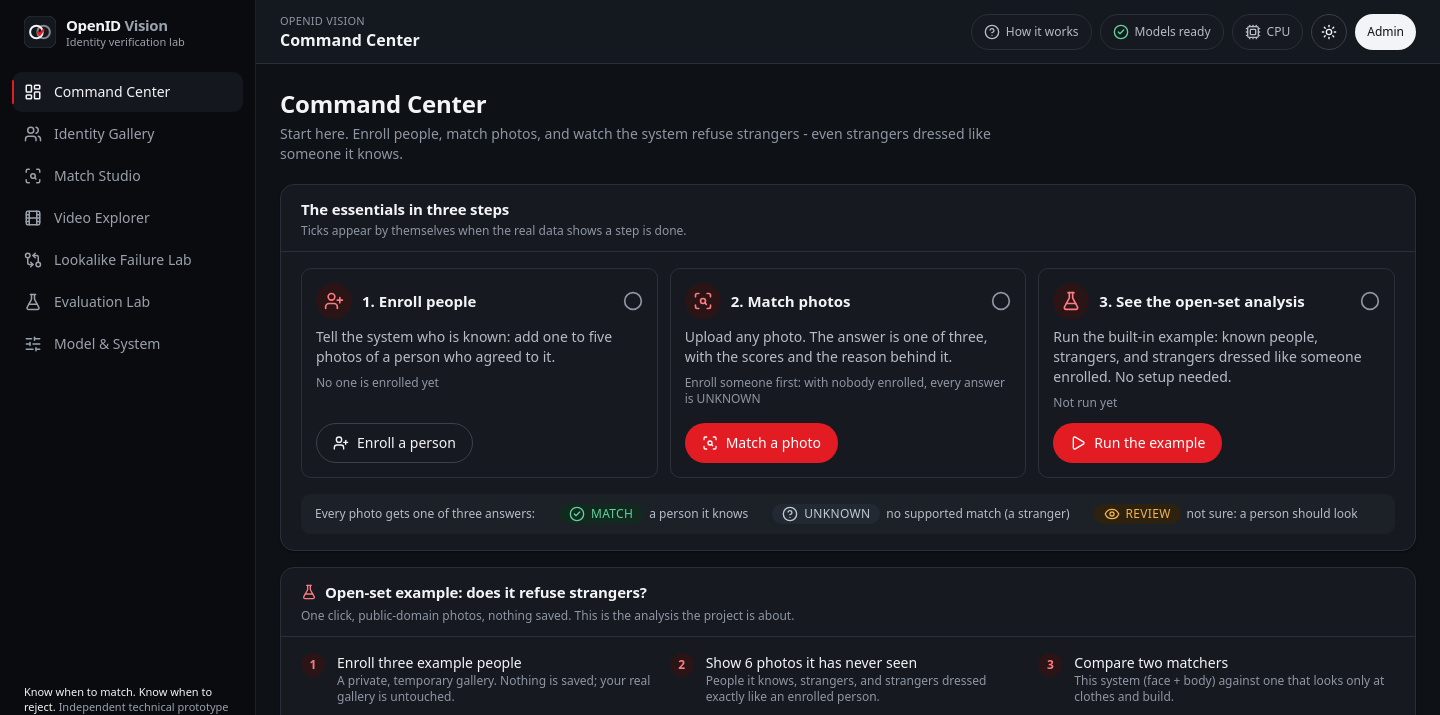
it: home page: the open-set example › says plainly when it stops half-way, and offers to try again
Click the button "Run the example" below "See the open-set analysis" at (1138, 443), box [1053,423,1222,463]
(page scrolled)
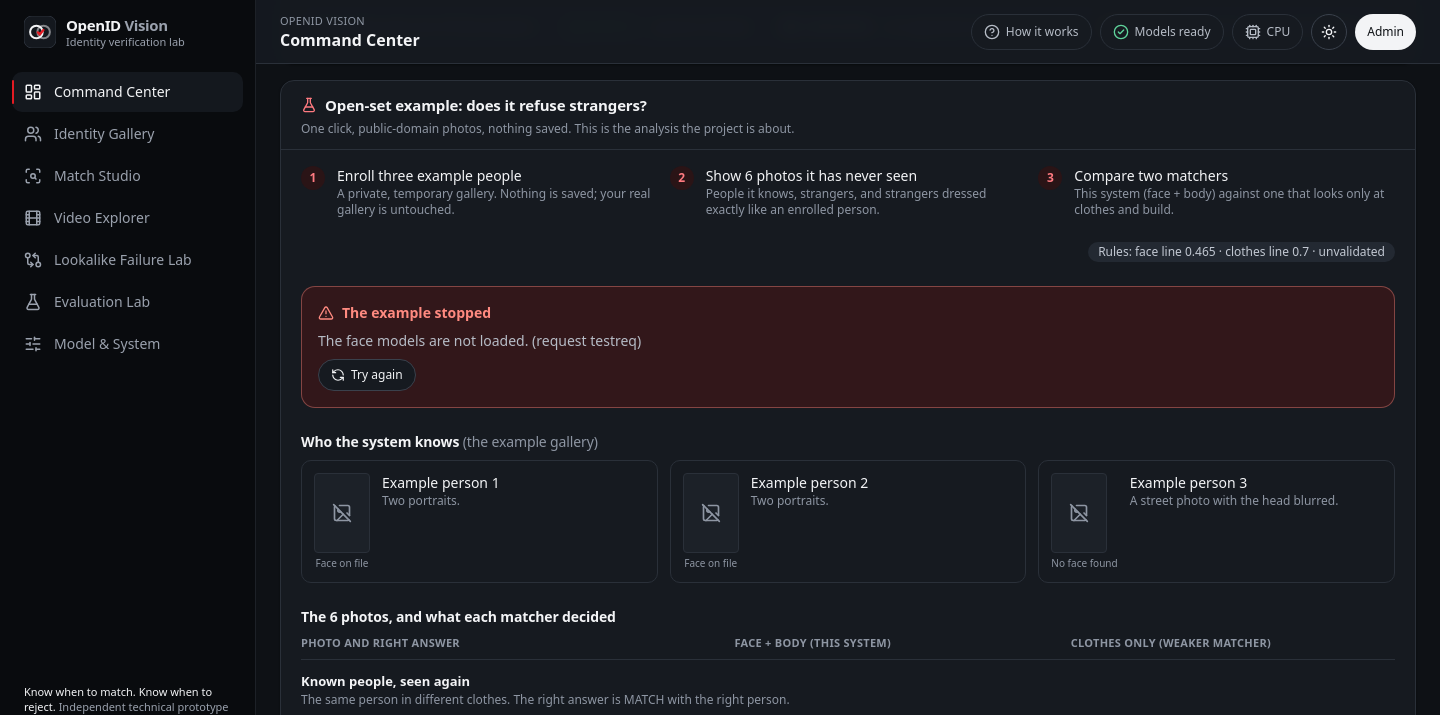
Check: the text "What the example shows" is not shown
Check: the message shows "The example stopped", box [342,303,491,322]
Check: the message shows "face models are not loaded", box [318,331,641,350]
Click the button "Try again" at (367, 375), box [318,359,416,391]
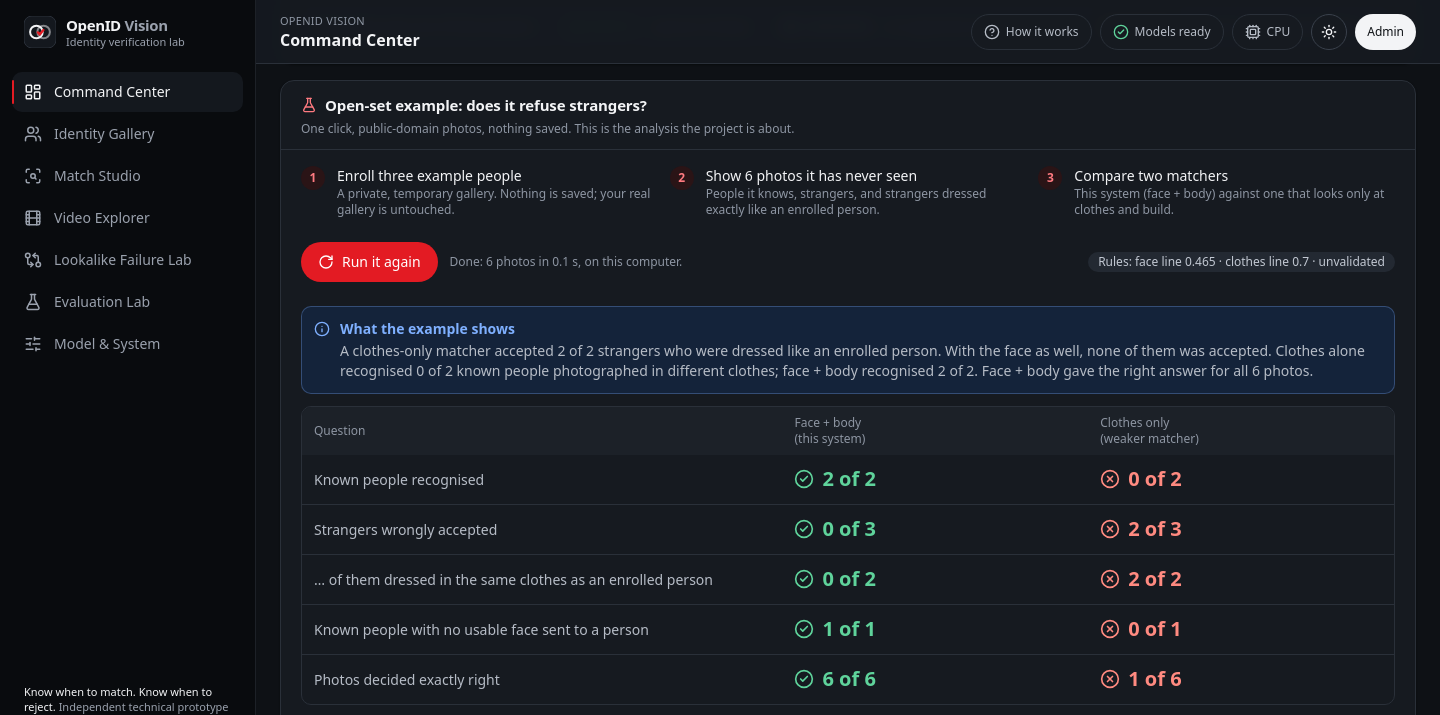
Check: the text "What the example shows" is shown, box [340,319,515,338]
